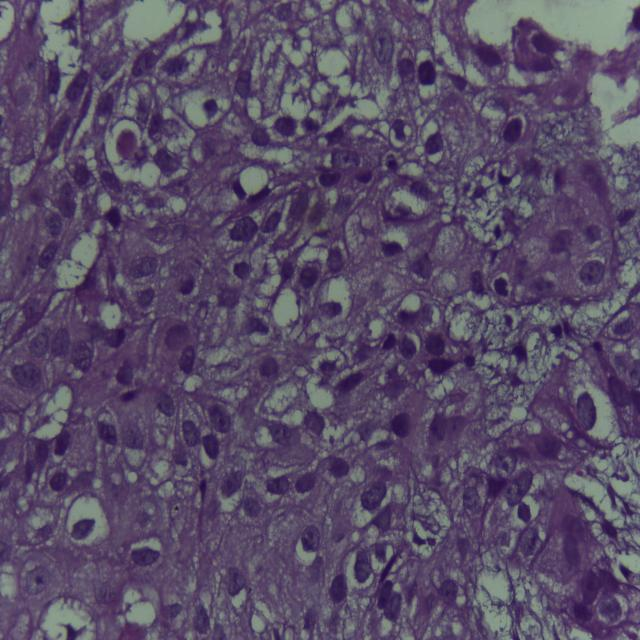Multiple Nucleol: (575, 257, 611, 294)
Nuclear Hyperchromatism: (255, 448, 398, 608), (150, 381, 232, 458), (416, 59, 447, 96), (501, 111, 528, 151), (472, 41, 505, 70), (301, 521, 324, 555), (420, 132, 446, 158), (391, 409, 411, 435), (494, 273, 509, 299)
